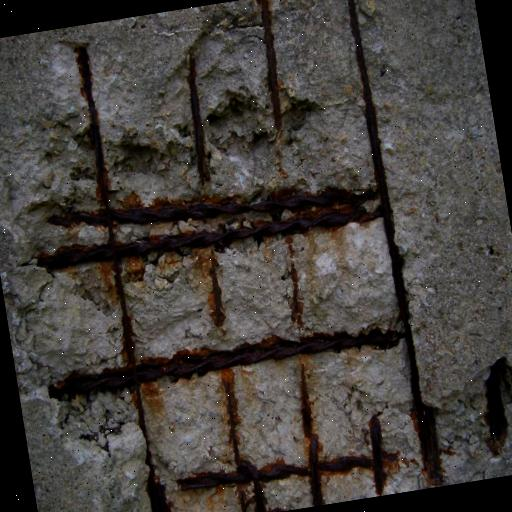spalling: (7, 0, 512, 512)
